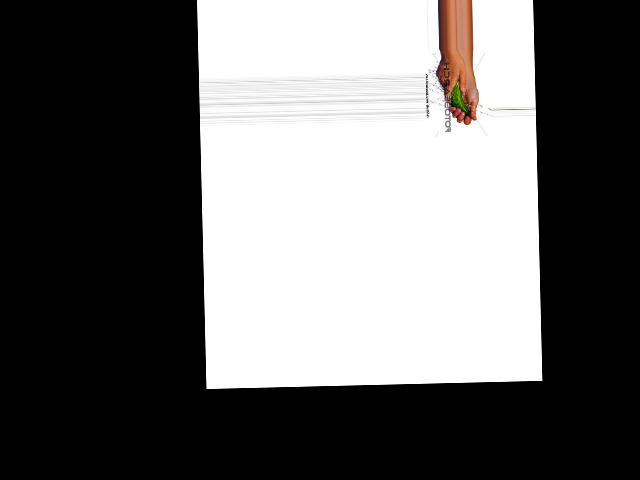cucumber: (449, 78, 470, 117)
